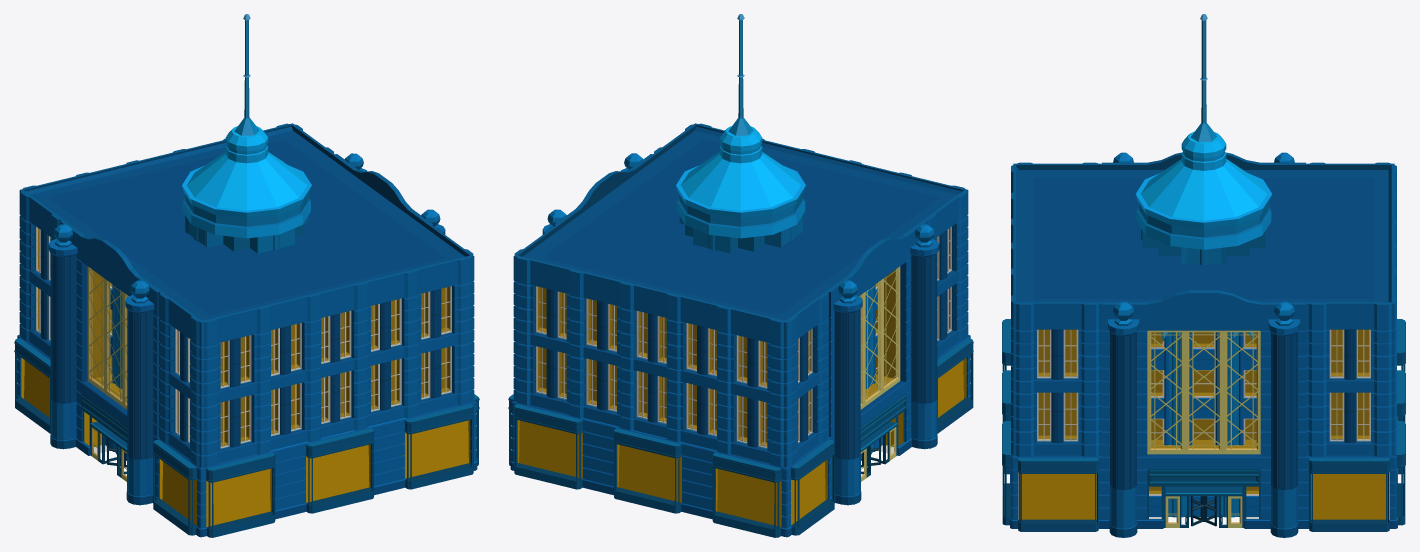
The picture shows the model from 3 angles, left to right: view 1: azimuth 30°, elevation 25°; view 2: azimuth 150°, elevation 25°; view 3: azimuth 270°, elevation 25°; orthographic projection. The views are drawn at different scales.
Visible parts, largest first — view 1: baseEmpire, tip, baseEmpire.001, baseEmpire.002; view 2: baseEmpire, tip, baseEmpire.001, baseEmpire.002; view 3: baseEmpire, tip, baseEmpire.002, baseEmpire.001.
Boxes of the visible parts, left/top/right/bottom form: baseEmpire: left=14, top=123, right=479, bottom=537; tip: left=182, top=14, right=311, bottom=238; baseEmpire.001: left=185, top=215, right=308, bottom=253; baseEmpire.002: left=105, top=283, right=422, bottom=460; baseEmpire: left=508, top=123, right=973, bottom=537; tip: left=676, top=14, right=805, bottom=238; baseEmpire.001: left=679, top=216, right=802, bottom=253; baseEmpire.002: left=562, top=283, right=882, bottom=460; baseEmpire: left=1002, top=152, right=1405, bottom=537; tip: left=1135, top=14, right=1272, bottom=249; baseEmpire.002: left=1065, top=332, right=1342, bottom=517; baseEmpire.001: left=1141, top=229, right=1266, bottom=264.
Bounding box in the file's own units: 0.7964 × 1.01 × 0.8377.
